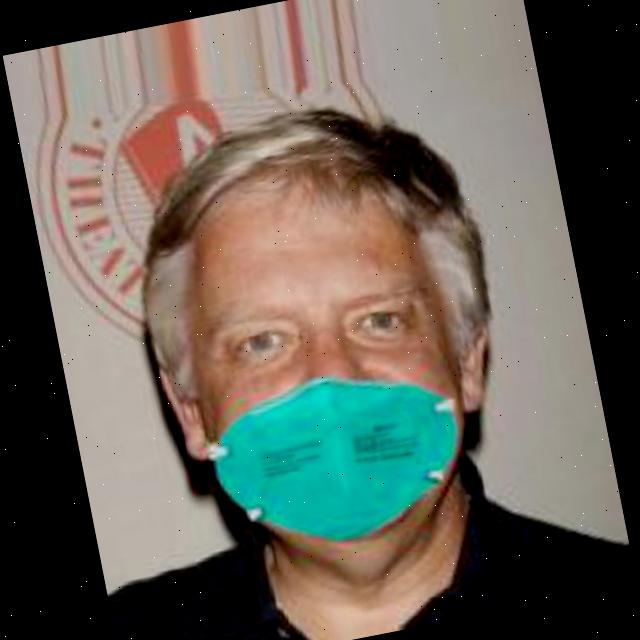suspicion: (130, 86, 520, 580)
